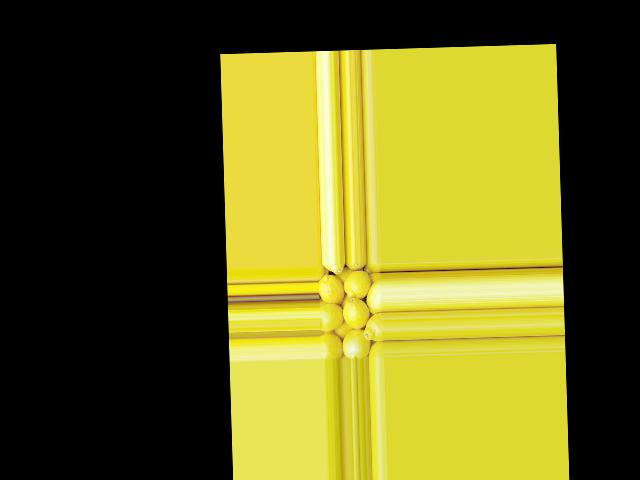lemon: (367, 342, 382, 359)
